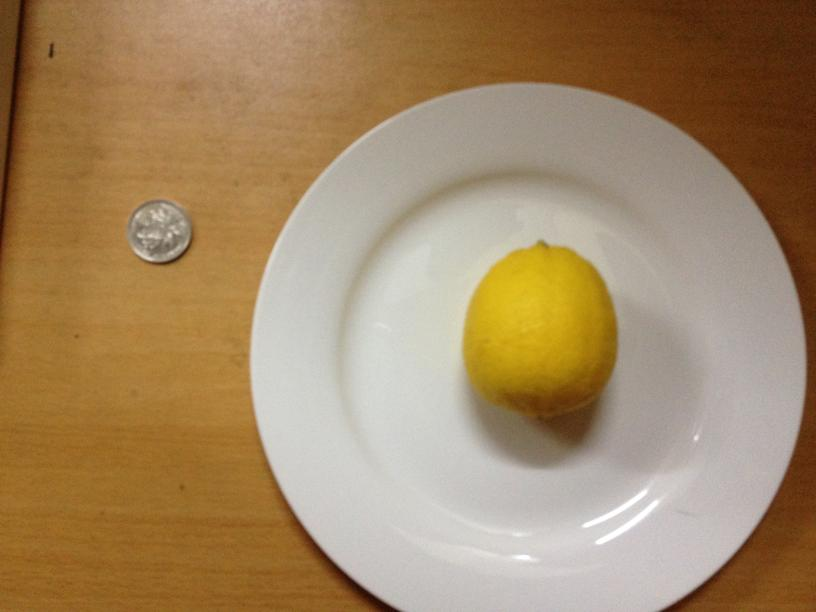coin: (127, 202, 189, 265)
lemon: (462, 234, 614, 417)
